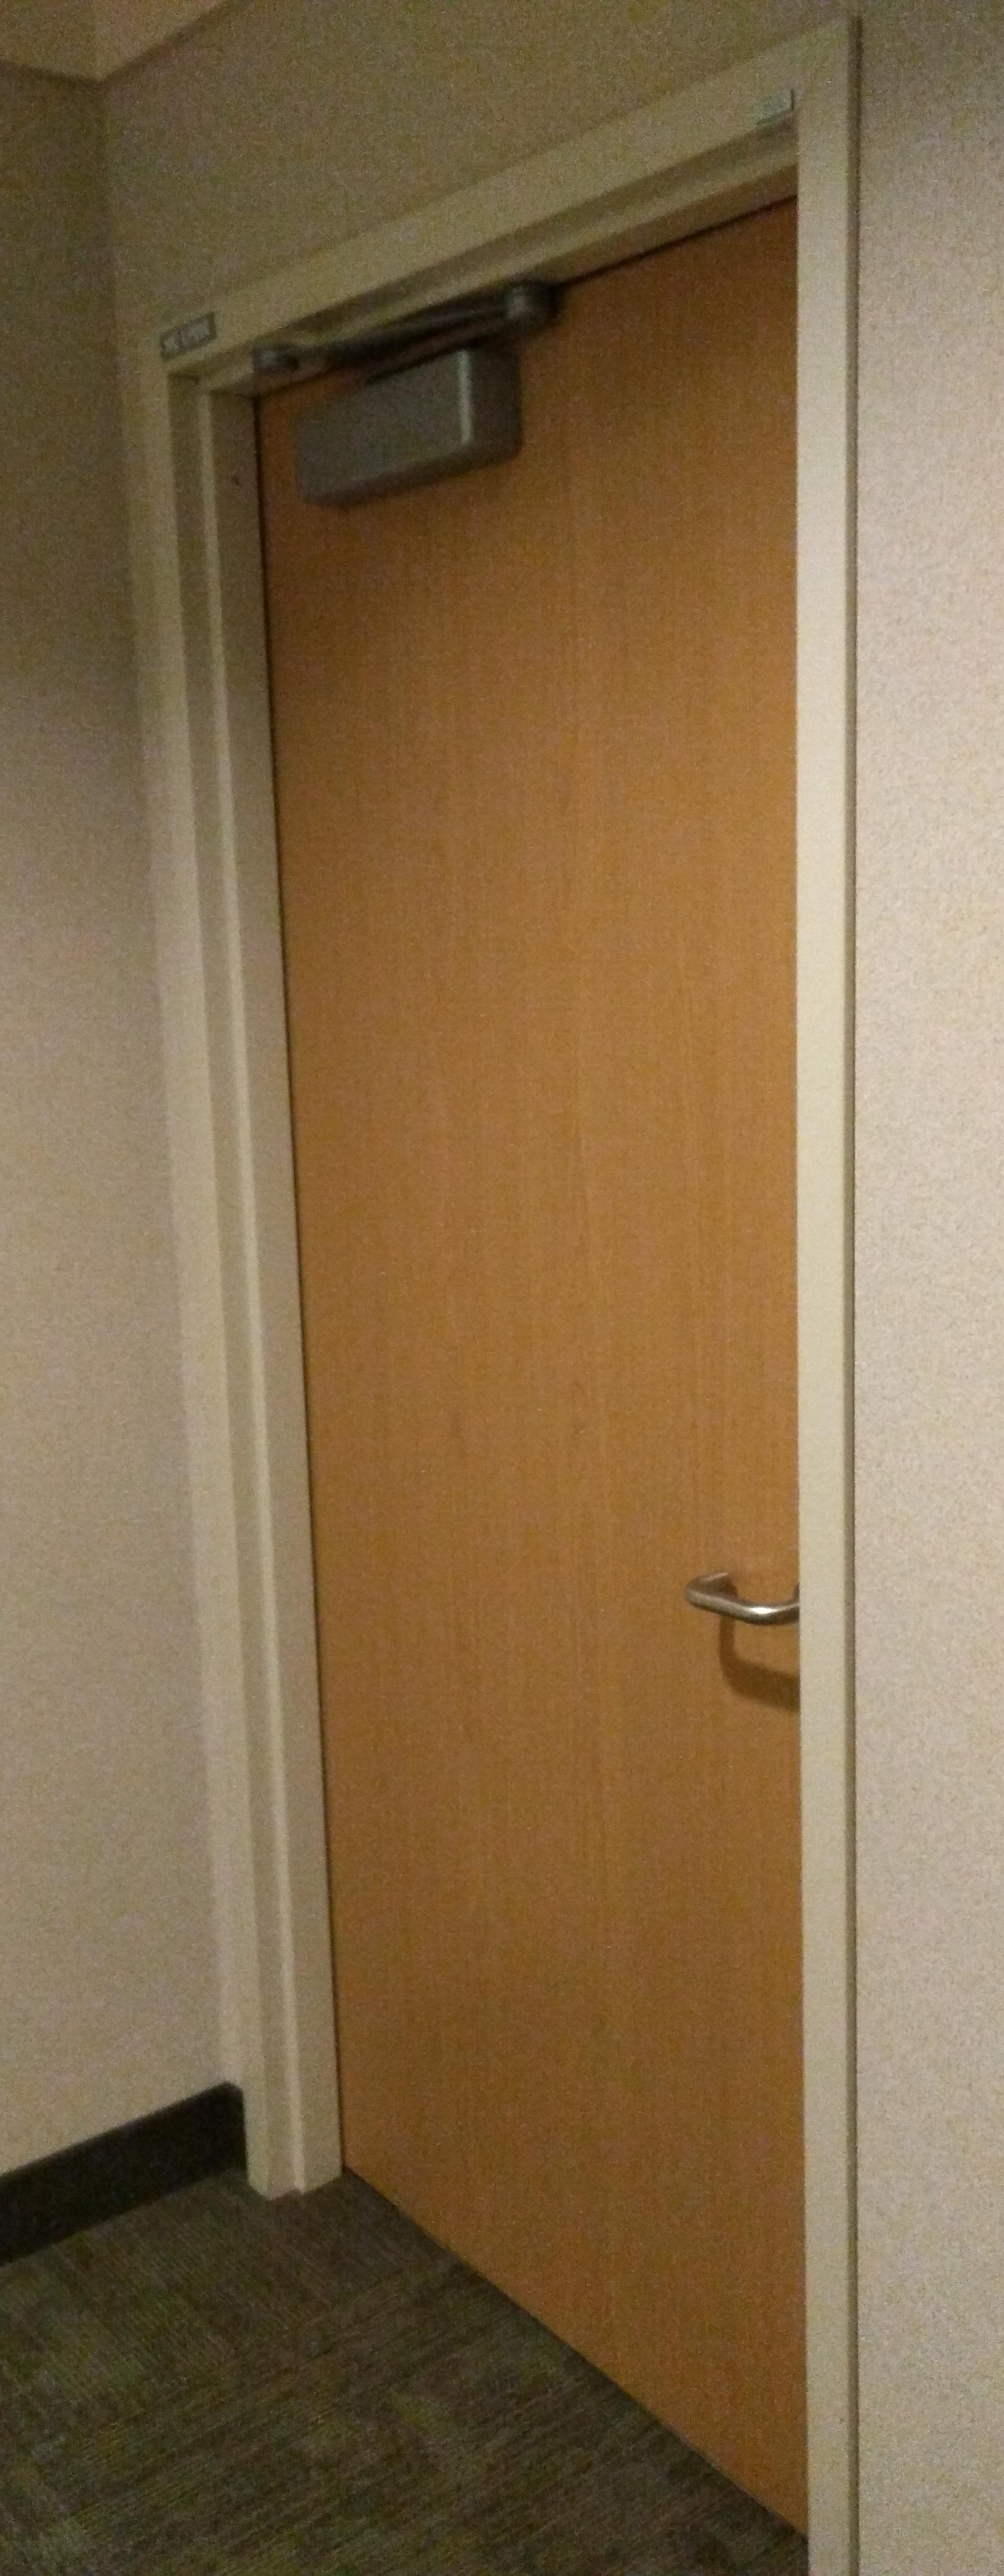door: (256, 135, 808, 2471)
